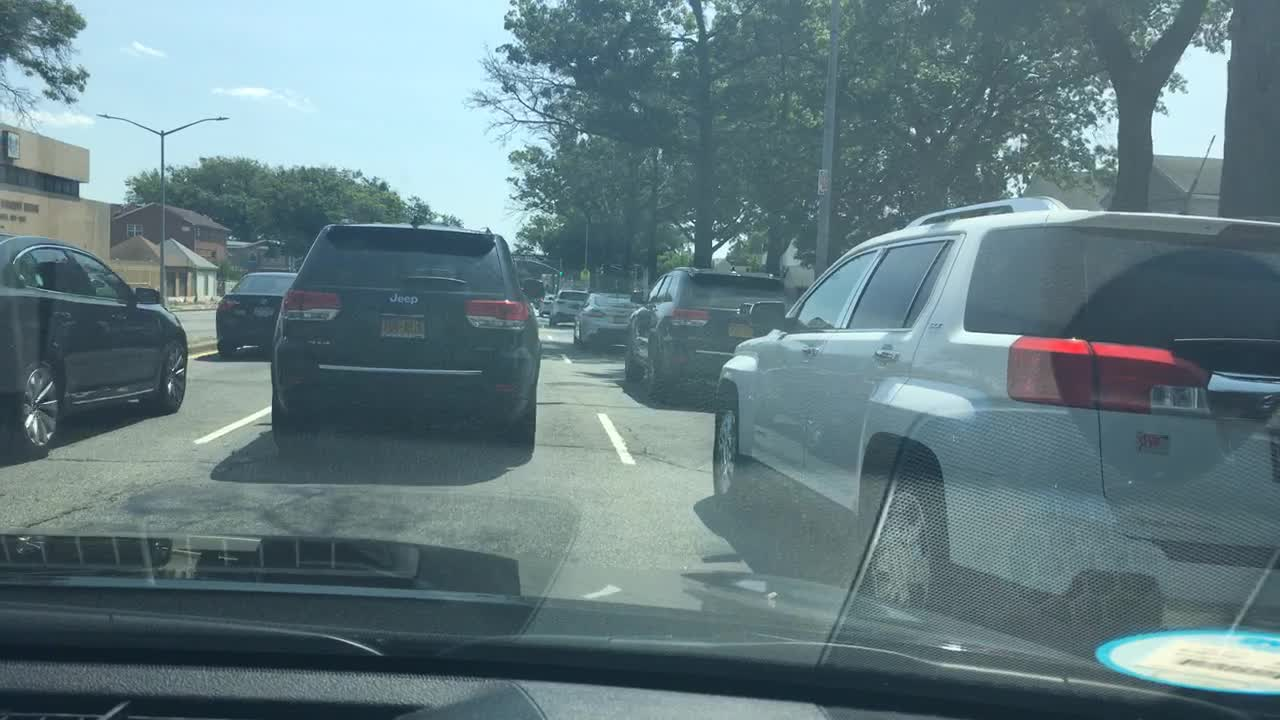car: (711, 197, 1278, 676), (270, 222, 544, 452), (2, 236, 187, 455), (624, 266, 785, 402), (215, 270, 297, 358), (573, 293, 641, 348), (552, 289, 589, 329), (542, 292, 549, 314)
traffic sign: (580, 268, 591, 281)
